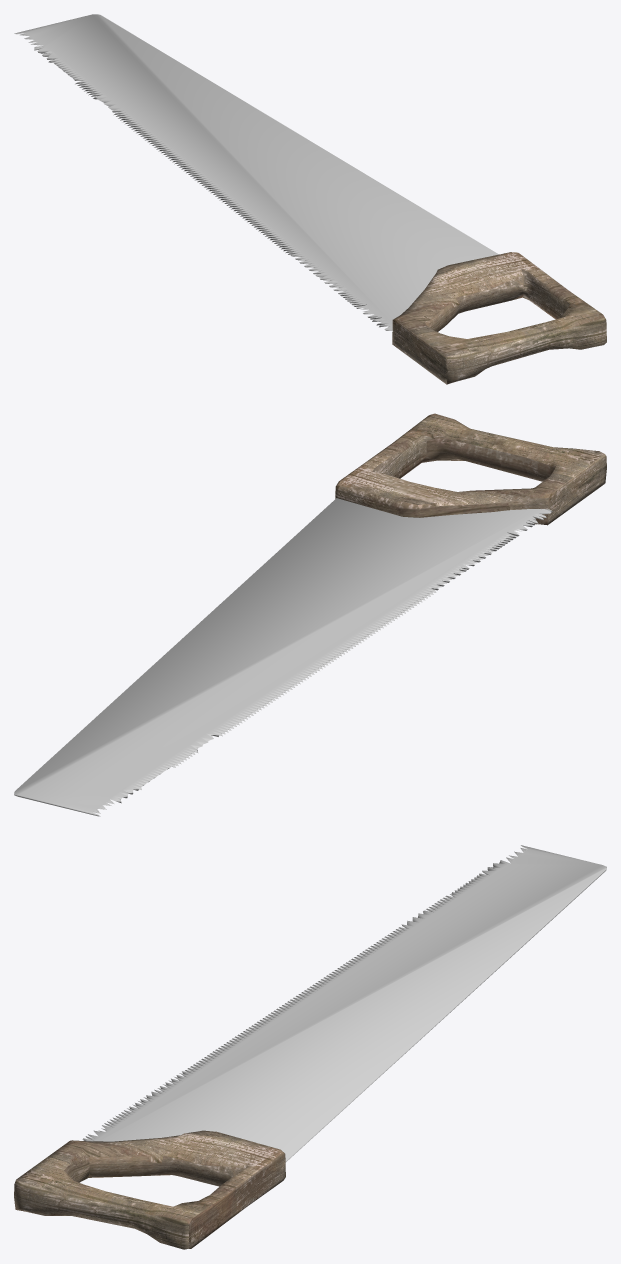
Rendered from SM_Saw.fbx.
The picture shows the model from 3 angles, top to bottom: view 1: azimuth 30°, elevation 25°; view 2: azimuth 150°, elevation 25°; view 3: azimuth 330°, elevation 25°; orthographic projection. The views are drawn at different scales.
Parts seen in each view (by area): view 1: SM_Saw_LOD0; view 2: SM_Saw_LOD0; view 3: SM_Saw_LOD0.
Part boxes in pixels (x1,y1,x2,y2): SM_Saw_LOD0: (14,14,606,384); SM_Saw_LOD0: (14,413,606,816); SM_Saw_LOD0: (14,845,606,1249).
Size of the model in its own units: 17.22 by 80.76 by 2.79.
